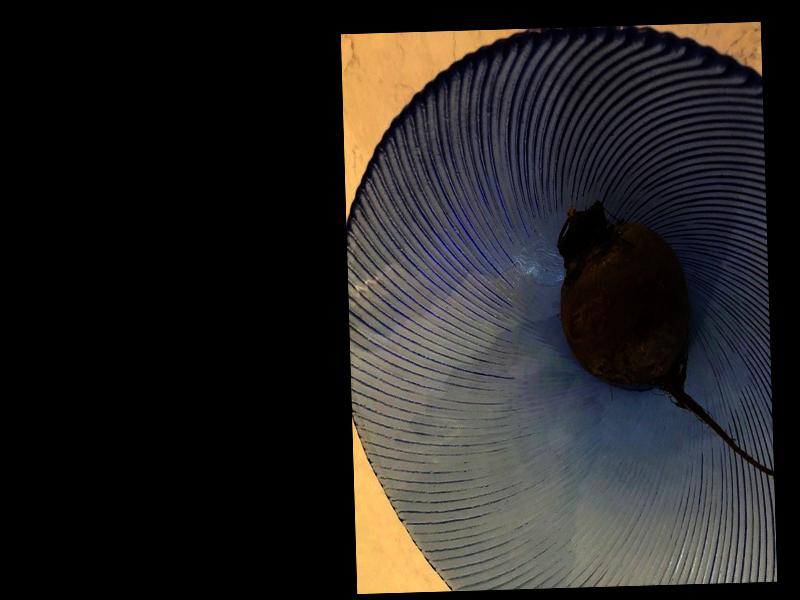Beet: (557, 197, 774, 480)
